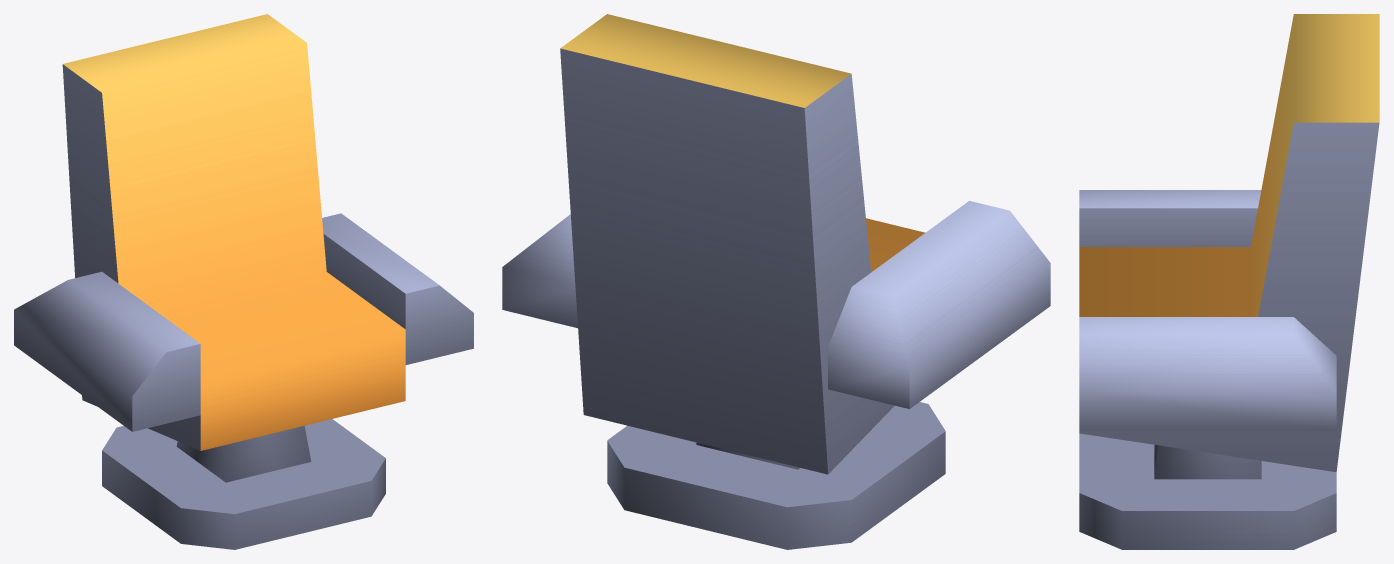
The model's file is chair-armrest.obj.
The picture shows the model from 3 angles, left to right: view 1: azimuth 30°, elevation 25°; view 2: azimuth 150°, elevation 25°; view 3: azimuth 270°, elevation 25°; orthographic projection. The views are drawn at different scales.
Visible parts, largest first — view 1: chair-armrest; view 2: chair-armrest; view 3: chair-armrest.
Part boxes in pixels (x1=…): chair-armrest: x1=14, y1=14, x2=473, y2=549; chair-armrest: x1=502, y1=14, x2=1050, y2=549; chair-armrest: x1=1079, y1=14, x2=1379, y2=549.
Bounding box in the file's own units: 0.5 × 0.55 × 0.35.
Materials: 1 (1 with a texture image).
